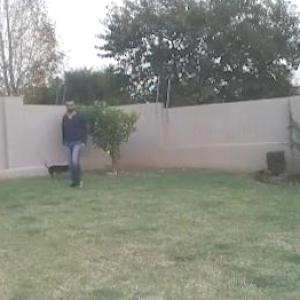follow: (60, 94, 88, 190)
